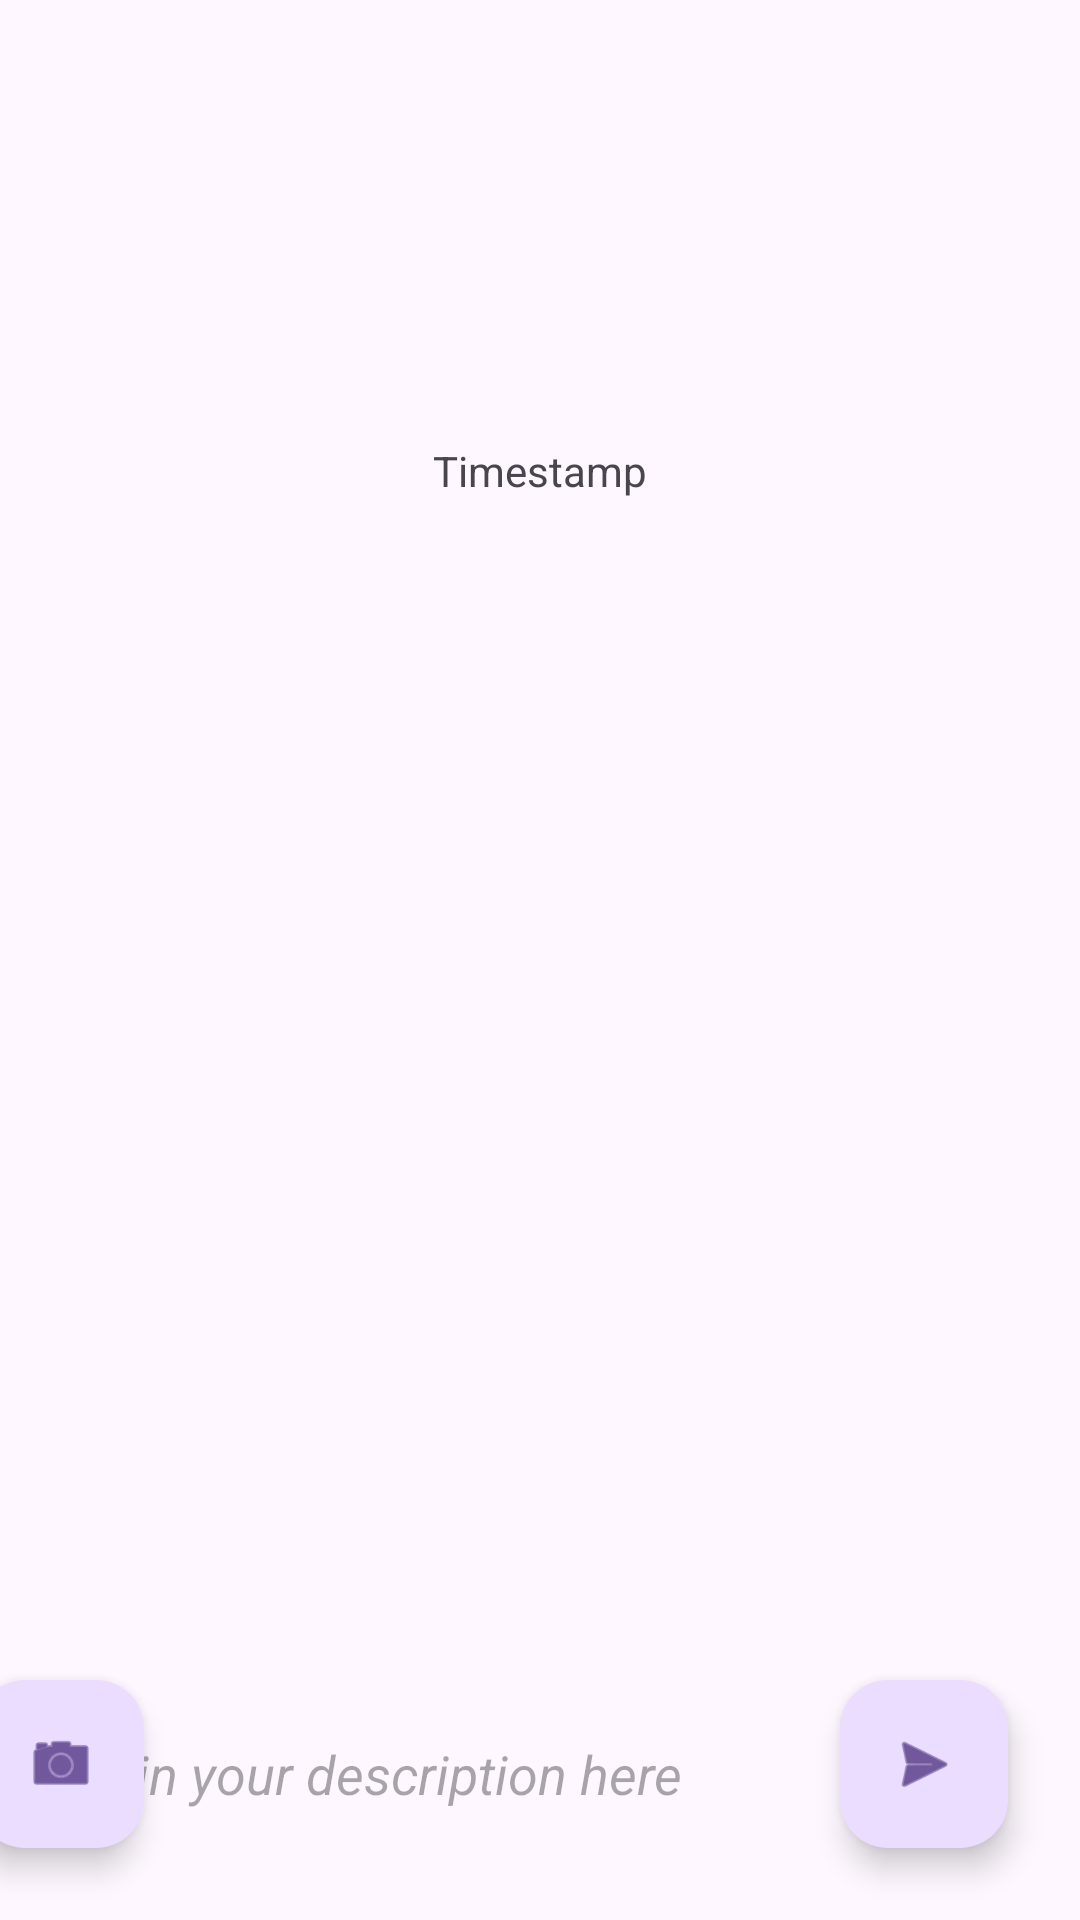

Icon click points for this 1080w x 1920h phone screenshot, format (x=x, y=y):
send: (x=924, y=1764)
